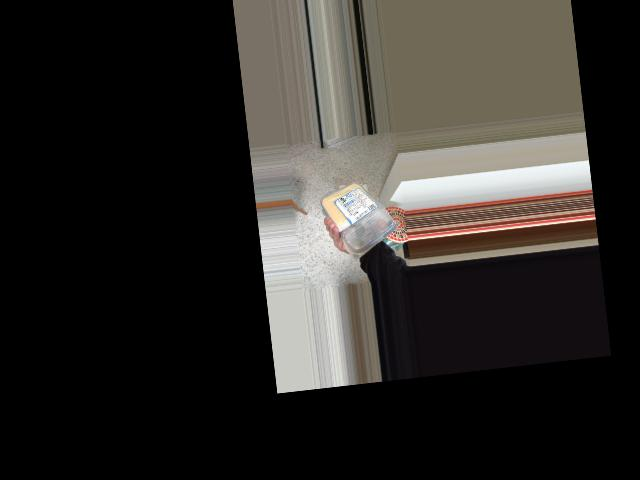cheese: (328, 176, 397, 251)
